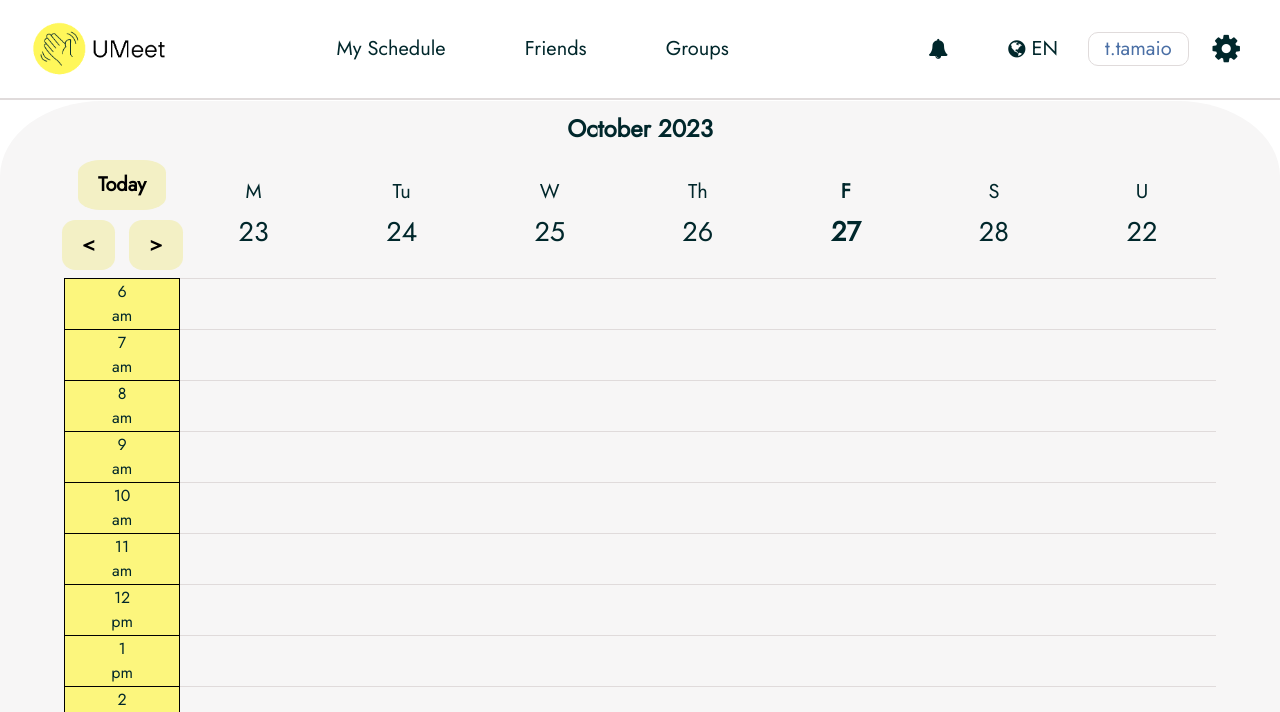
Scenario: DropdownFriends Component › should hide the DropdownFriends component when the mouse leaves
The image size is (1280, 712).
Hover over the button "Friends" at (556, 49), box [519, 33, 593, 65]
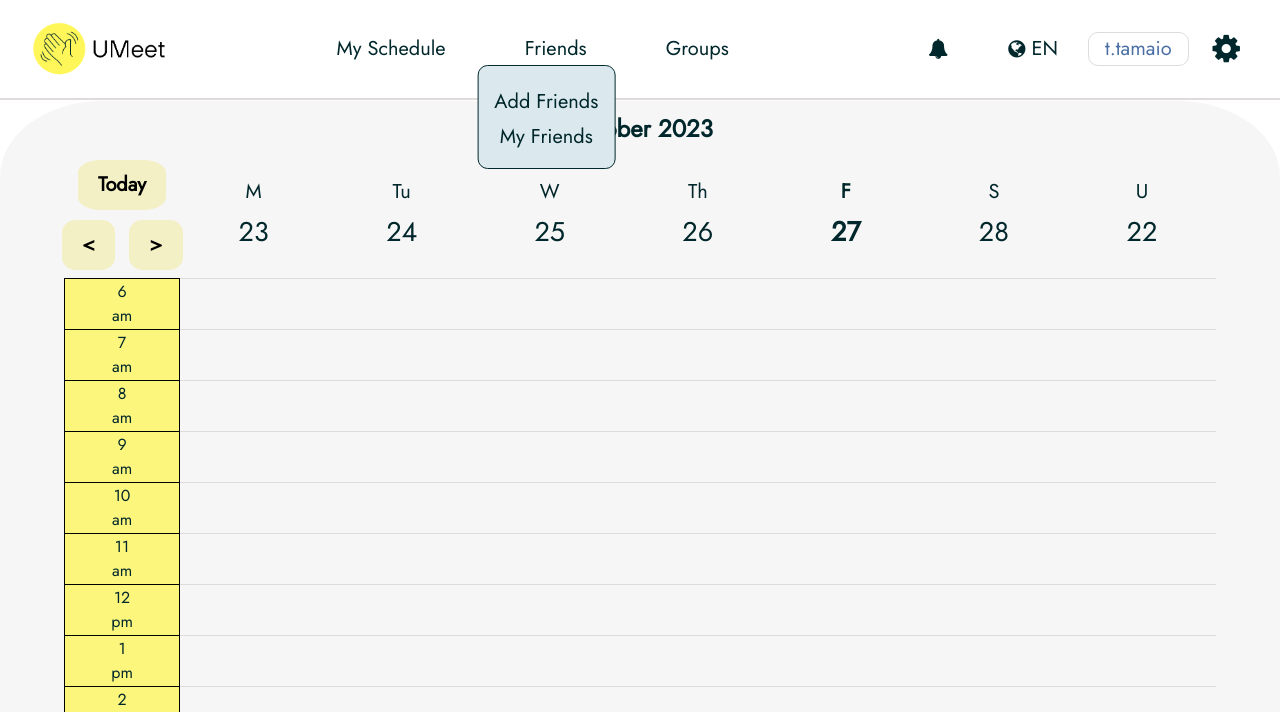
Result: the element with class "dropdown_friends" is shown at [477, 65, 615, 169]
Move the pointer off the button "Friends", box [519, 33, 593, 65]
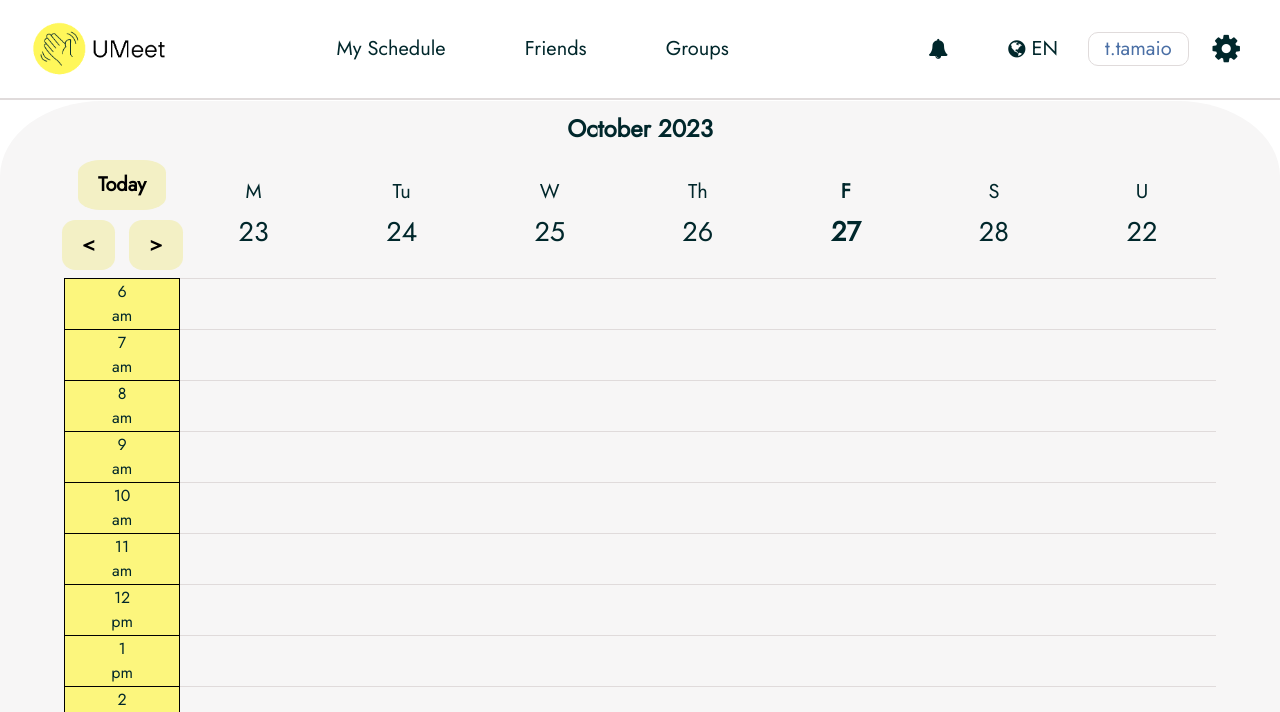
Result: the element with class "dropdown_friends" is gone
